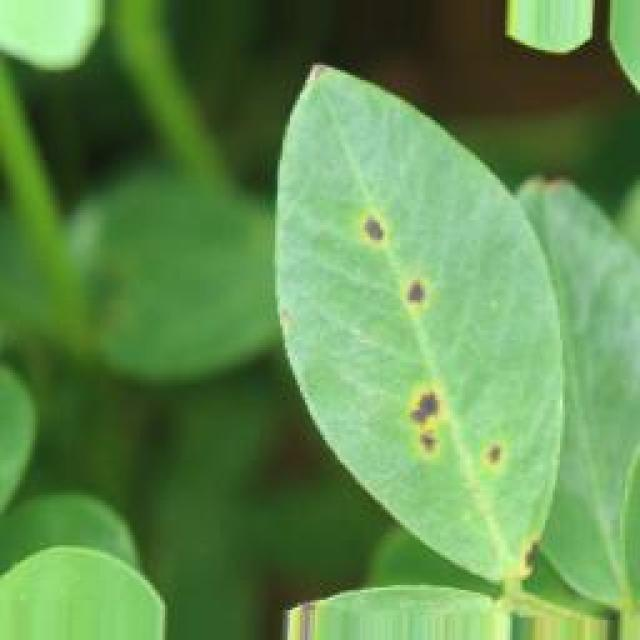Sigatoka: (357, 378, 470, 486), (364, 243, 458, 328), (336, 194, 408, 272), (467, 402, 517, 492)
